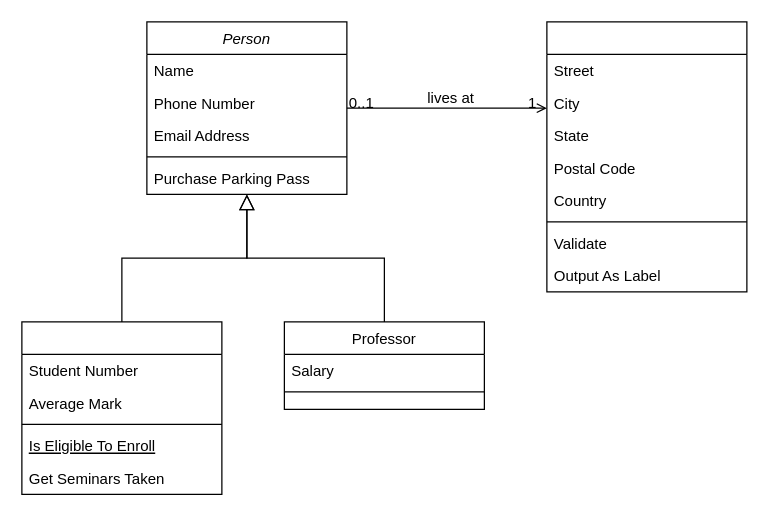
The diagram is 769 pixels wide and 520 high, and some of its shapes have lost their labels. Each missing label, with the box of its shape:
Address: (546, 21, 747, 292)
Writer: (21, 321, 222, 494)
